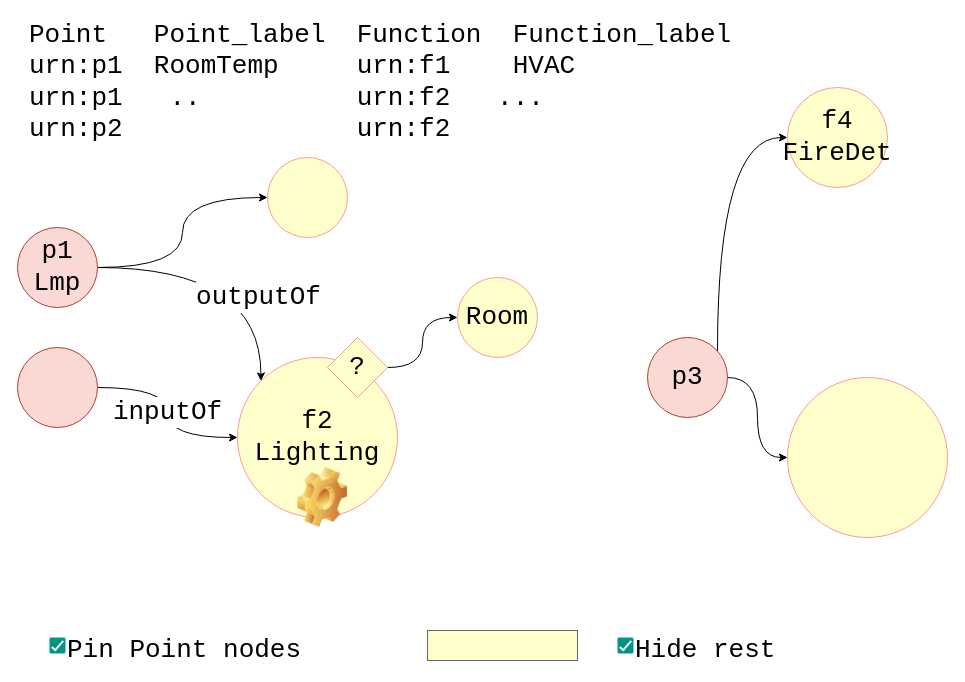
Some shapes in this 965 by 682 pixel diagram are drawn without their labels. Each missing label, with the centre of its shape:
f1 HVAC: the point at 307,197
f3 Lighting: the point at 867,457
p2 LSens: the point at 57,387
RoomTemp: the point at 502,645
